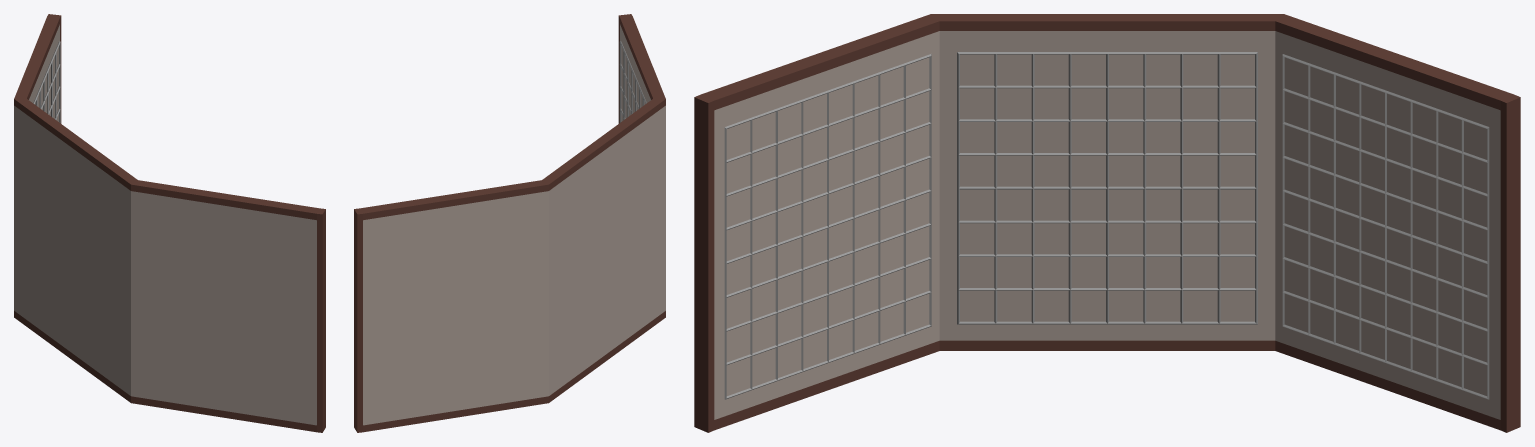
Rendered from prizewall.fbx.
The picture shows the model from 3 angles, left to right: view 1: azimuth 30°, elevation 25°; view 2: azimuth 150°, elevation 25°; view 3: azimuth 270°, elevation 25°; orthographic projection. The views are drawn at different scales.
Visible parts, largest first — view 1: Cube, Plane.002; view 2: Cube, Plane.001; view 3: Cube, Plane, Plane.001, Plane.002.
Part boxes in pixels (box(x1,y1,x2,y2)): Cube: box(14, 14, 325, 432); Plane.002: box(33, 41, 60, 122); Cube: box(354, 14, 665, 432); Plane.001: box(619, 41, 646, 122); Cube: box(694, 14, 1520, 432); Plane: box(957, 52, 1257, 324); Plane.001: box(724, 54, 931, 399); Plane.002: box(1282, 54, 1489, 399).
Bounding box in the file's own units: 247 × 426 × 967.
